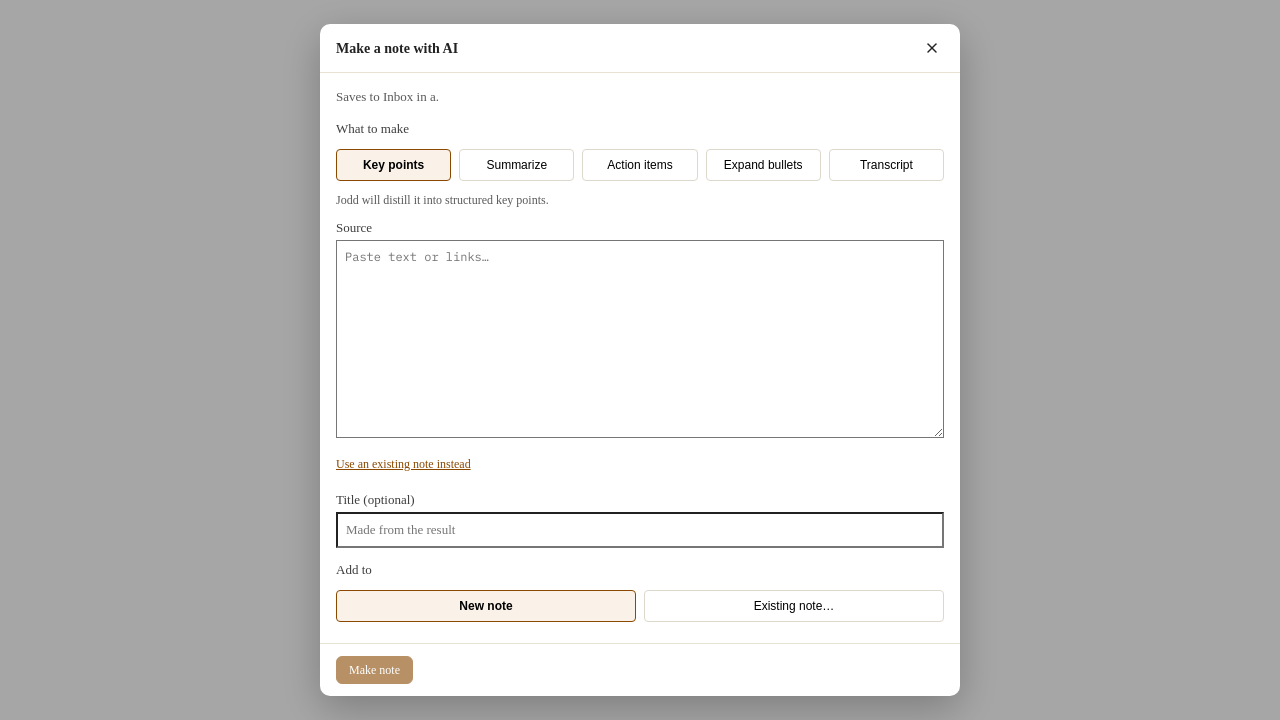
Scenario: discard returns to intact source without saving
This screenshot has width=1280, height=720.
Click the button "Action items": {"x": 640, "y": 165} [582, 149, 698, 181]
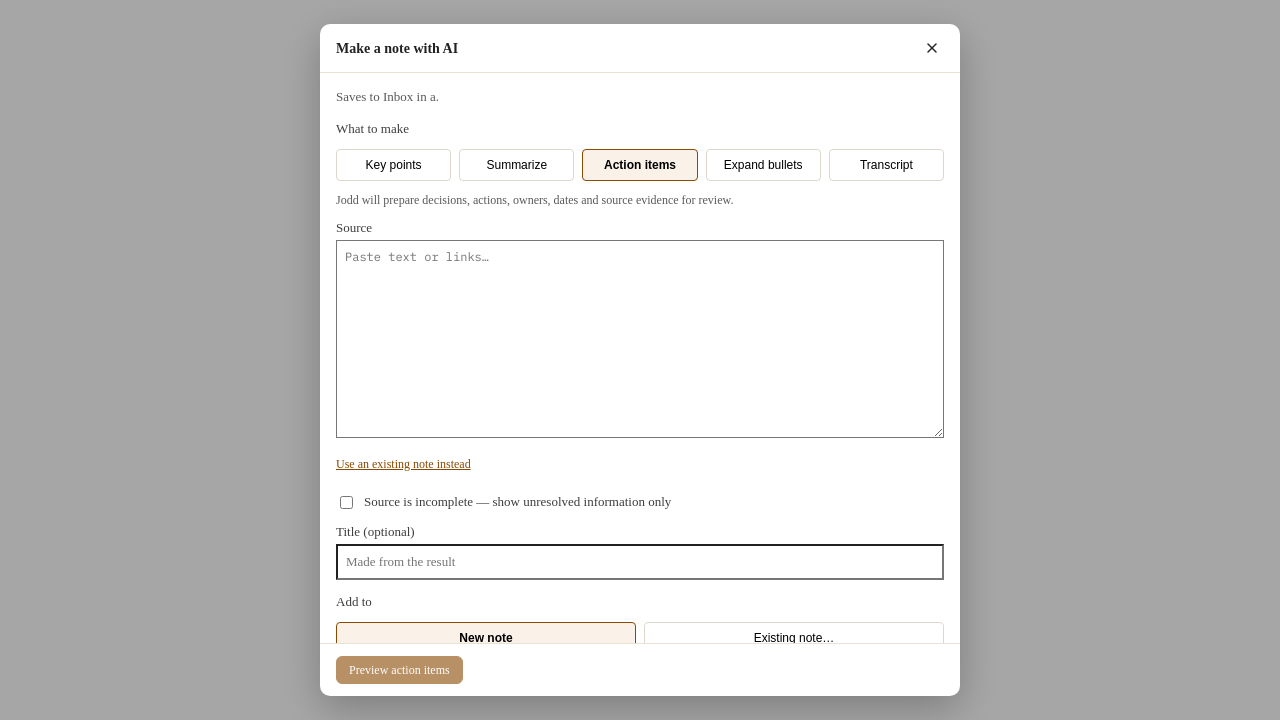
In the text box labelled "Source": {"x": 640, "y": 339} [336, 240, 944, 438], type "ส่ง draft"
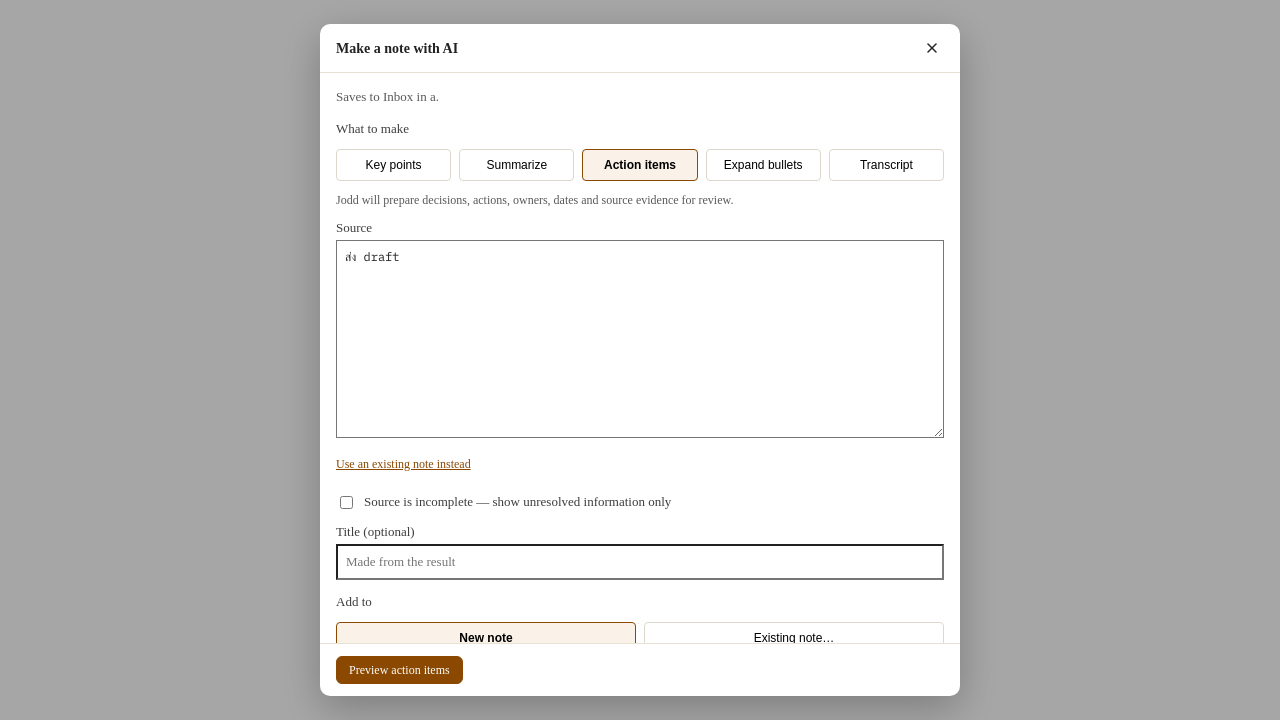
Click the button "Preview action items": {"x": 399, "y": 670} [336, 656, 463, 684]
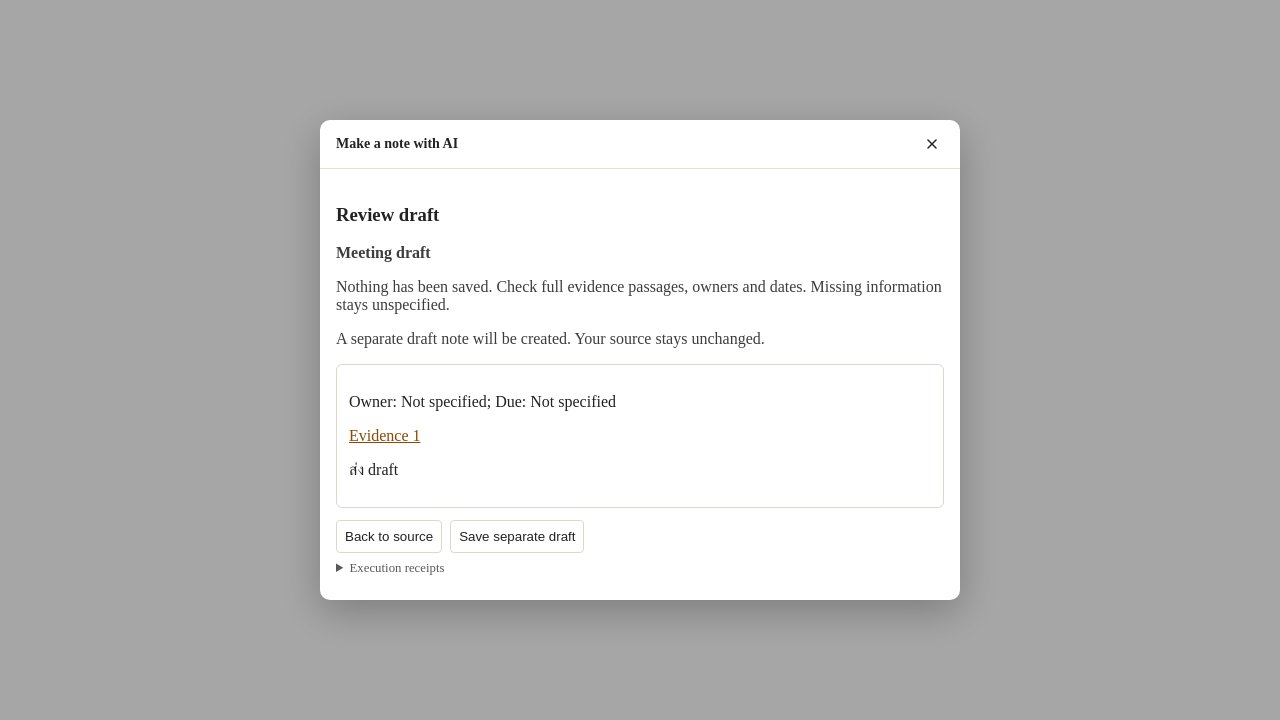
Click the button "Back to source": {"x": 389, "y": 537} [336, 520, 442, 553]
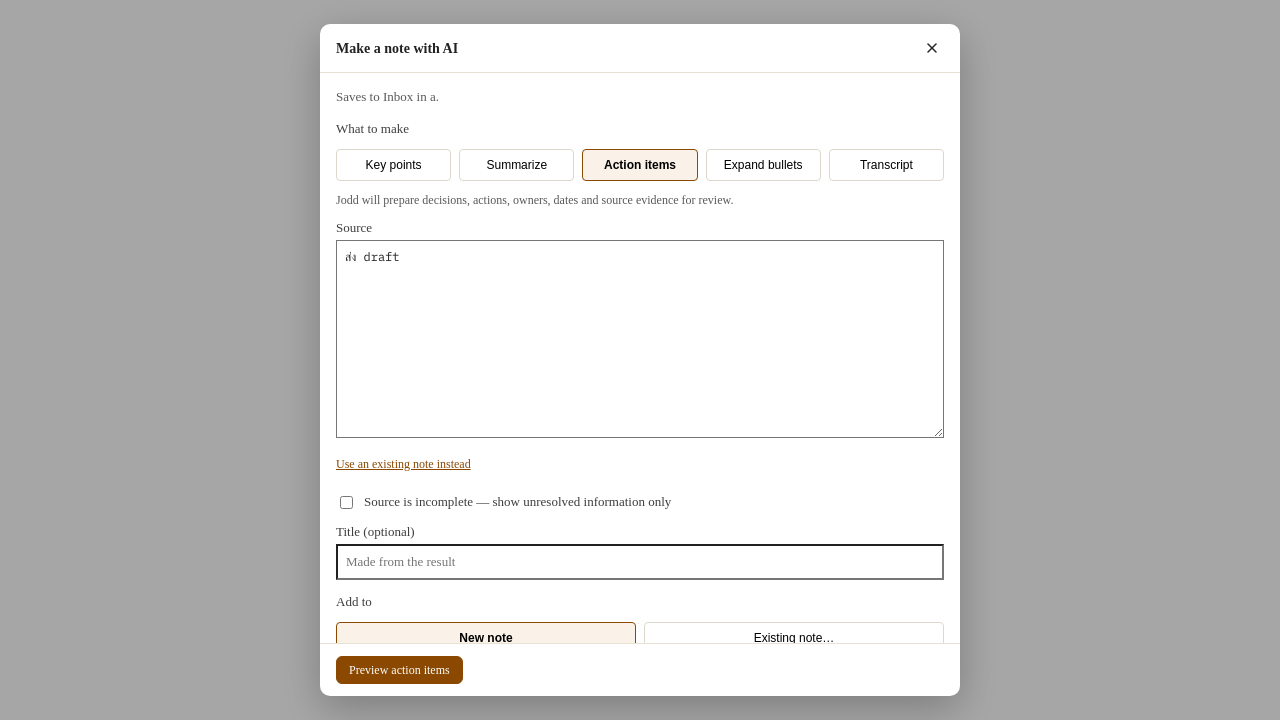
Now the text box labelled "Source" holds "ส่ง draft", box [336, 240, 944, 438]
